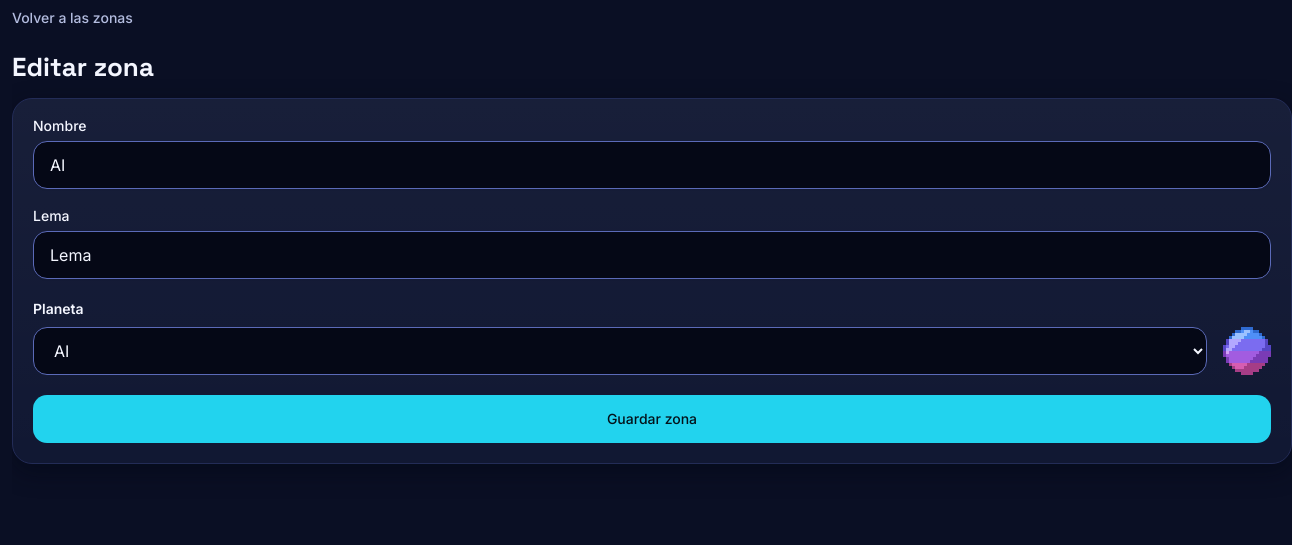
Test: QuadrantForm › edits a quadrant without its id, and shows a server refusal
expect the dropdown labelled "Planeta" shows "AI": met, box [33,327,1207,375]
Click the button "Guardar zona" at [652, 419], box [33,395,1271,443]
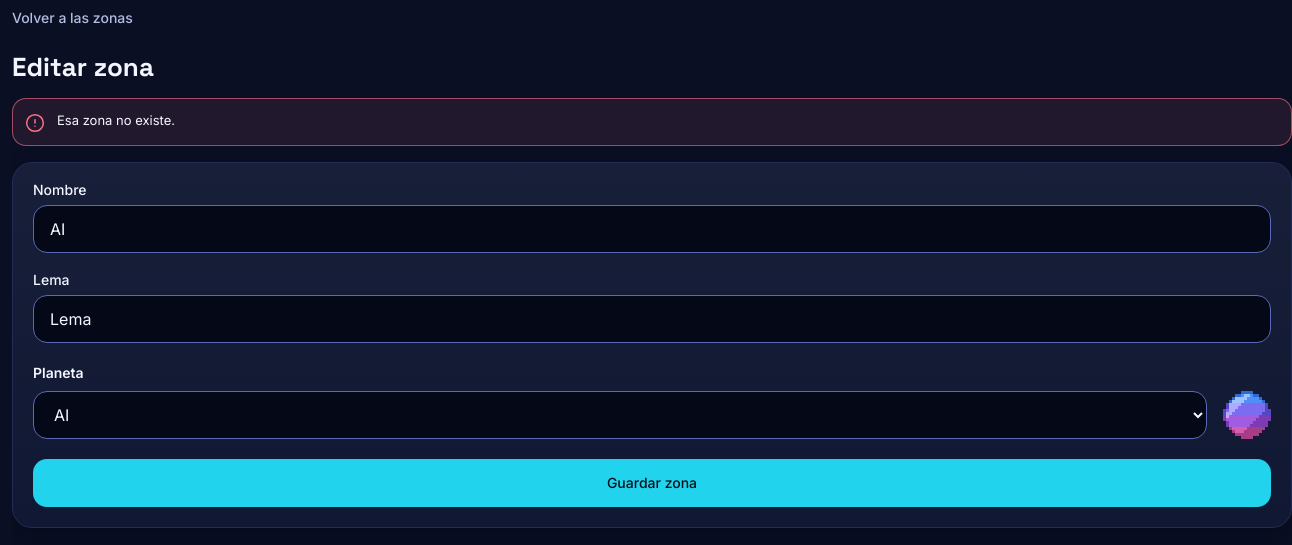
expect the message reads "Esa zona no existe.": met, box [57,112,175,128]
